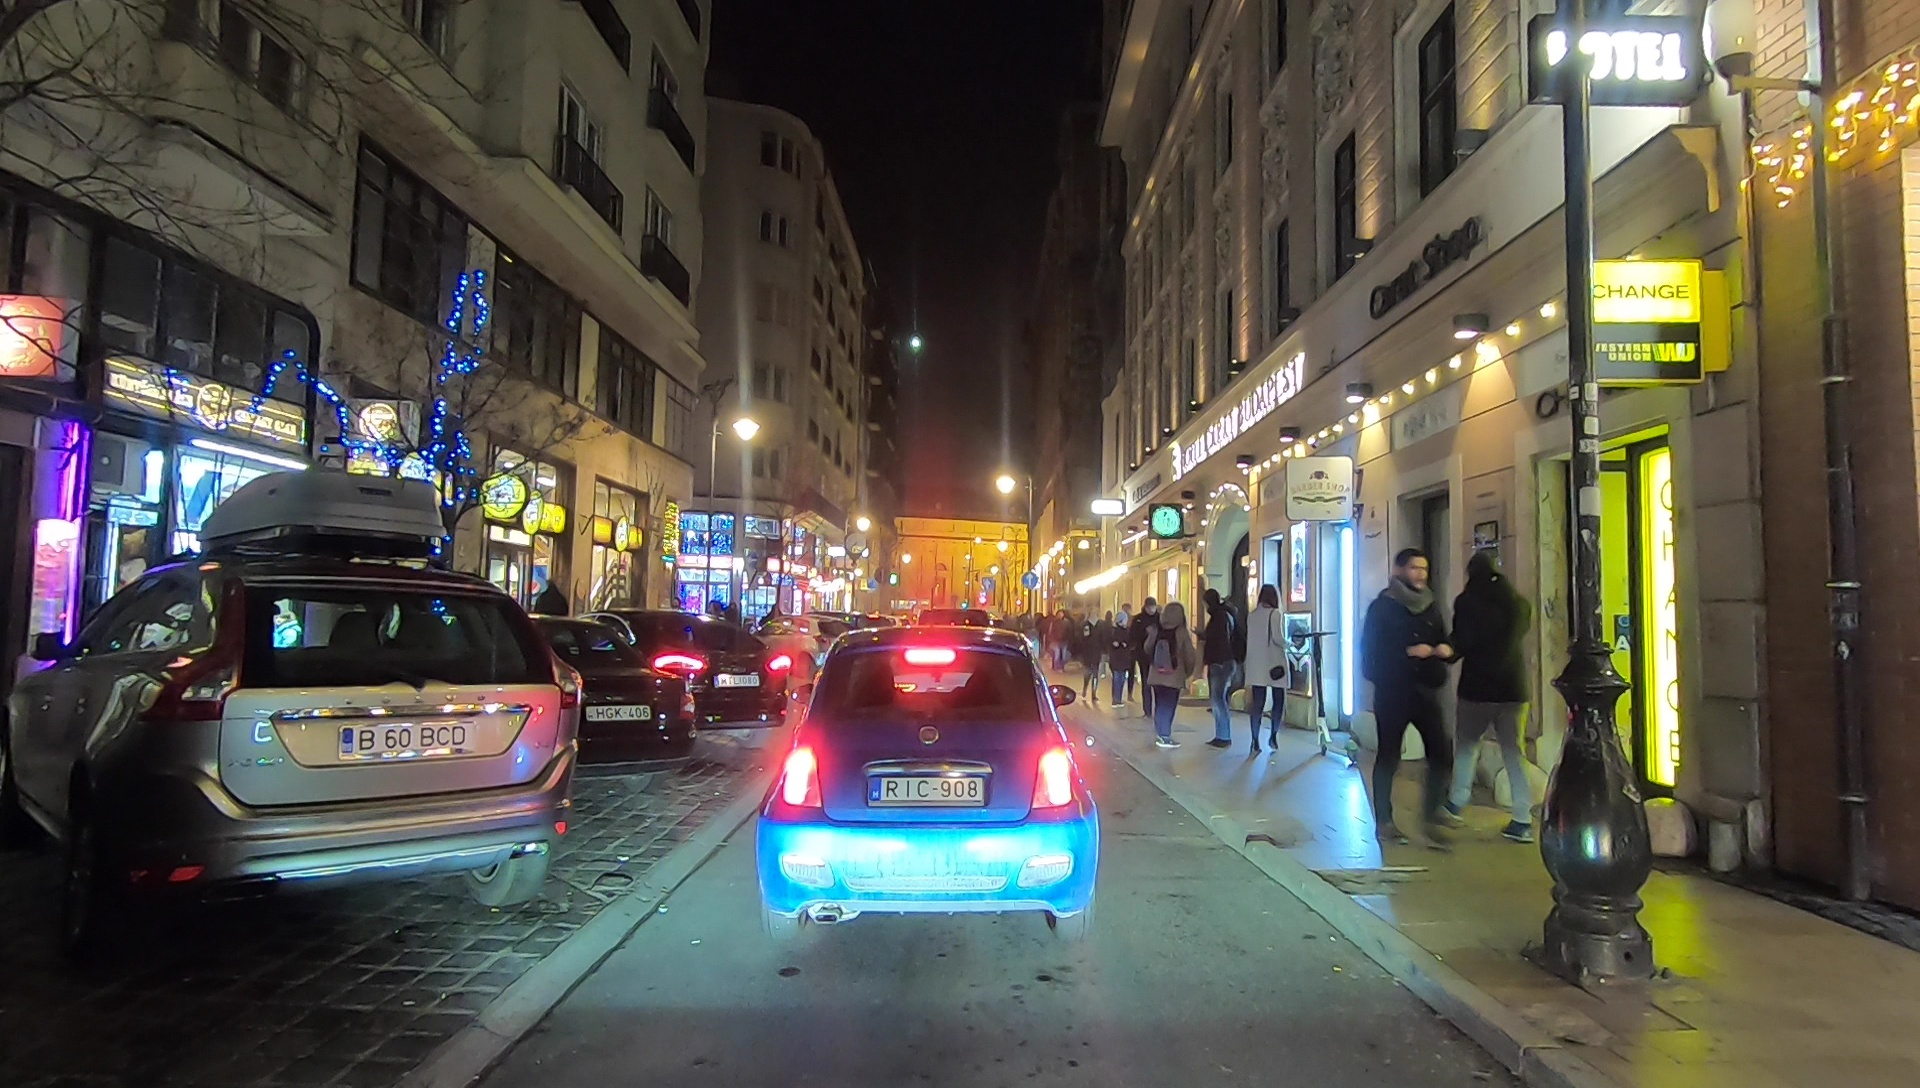person: (1363, 545, 1459, 848), (1448, 557, 1541, 845), (1245, 581, 1297, 756), (1198, 587, 1238, 750), (1150, 604, 1191, 754), (1136, 599, 1164, 716), (535, 582, 571, 667), (1077, 621, 1104, 704), (1110, 612, 1127, 709), (1050, 611, 1070, 669)
